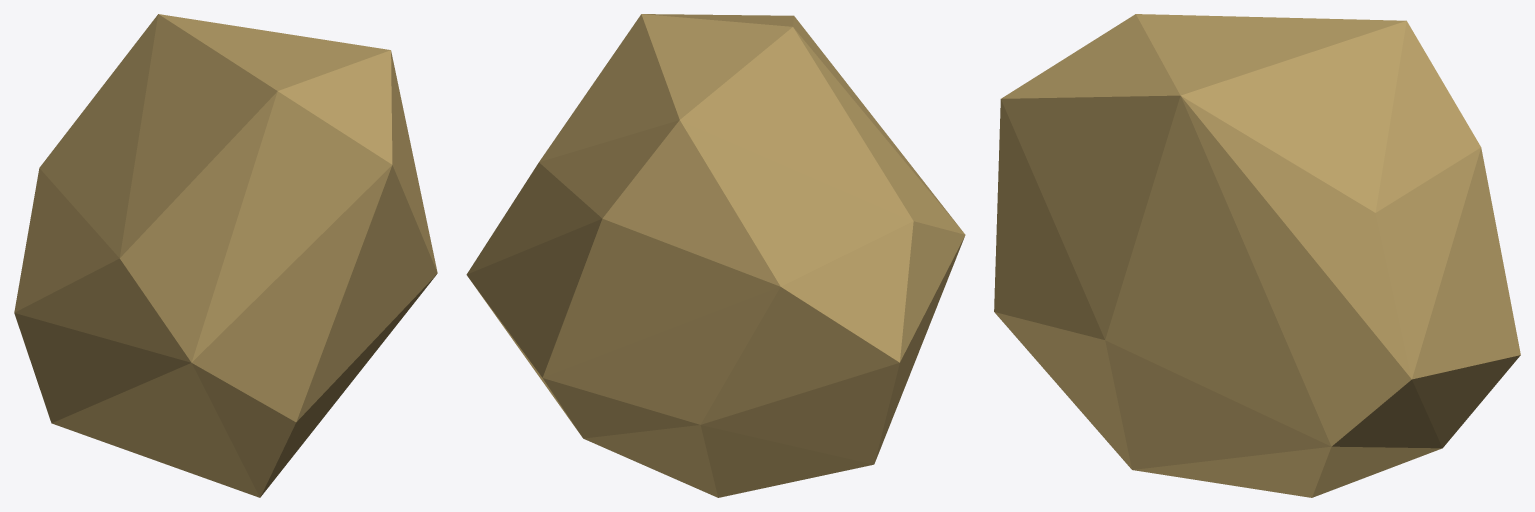
Rendered from GlowshroomCrumb0Collider.fbx.
3 views of the same model, side by side, from view 1: azimuth 30°, elevation 25°; view 2: azimuth 150°, elevation 25°; view 3: azimuth 270°, elevation 25° (orthographic). The views are drawn at different scales.
Visible parts, largest first — view 1: Icosphere.001; view 2: Icosphere.001; view 3: Icosphere.001.
Part boxes in pixels (x1,y1,x2,y2): Icosphere.001: (14,14,437,497); Icosphere.001: (466,14,965,497); Icosphere.001: (994,14,1520,497).
Size of the model in its own units: 9.04 by 9.09 by 8.96.
